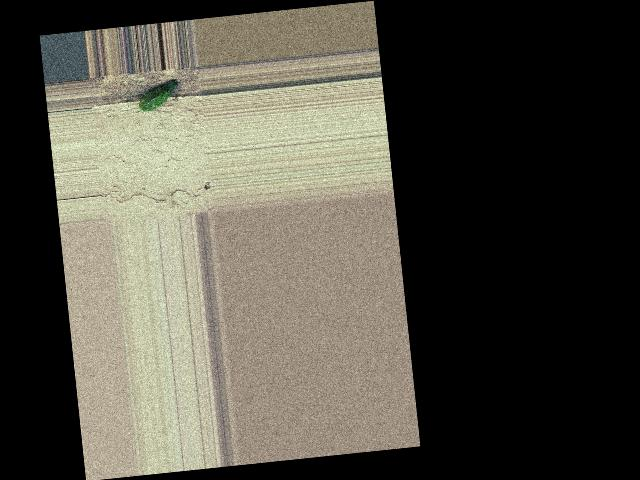cucumber: (136, 80, 179, 112)
